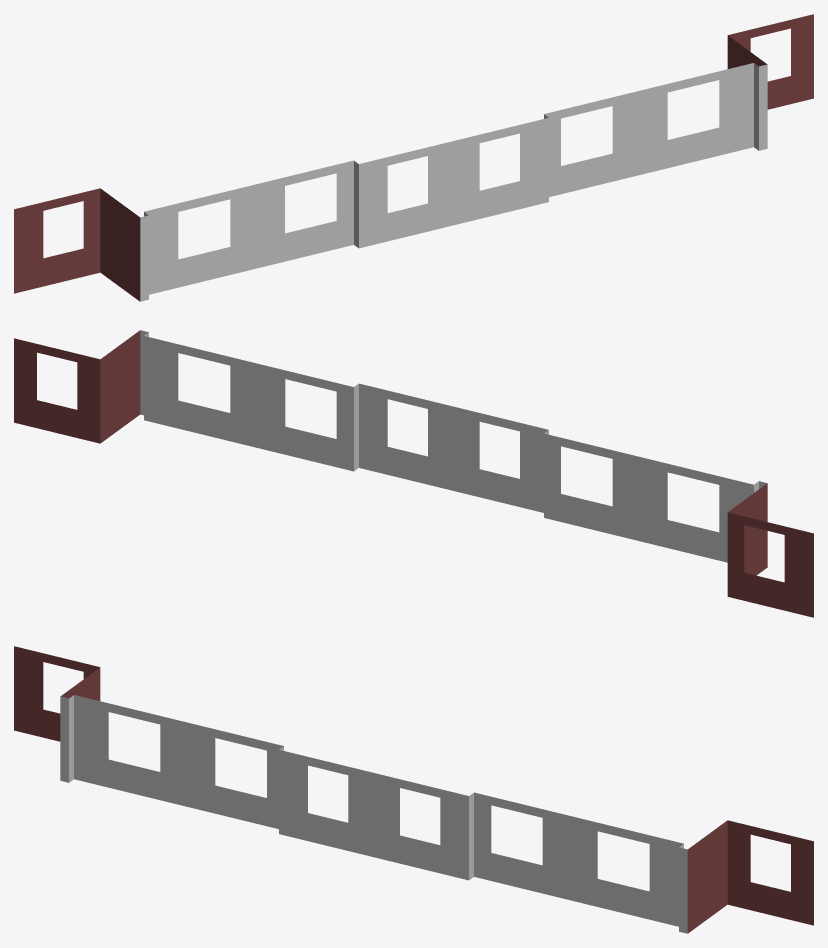
File: p3-floor-first-back.fbx
3 renders of one model, top to bottom at view 1: azimuth 30°, elevation 25°; view 2: azimuth 150°, elevation 25°; view 3: azimuth 330°, elevation 25°, orthographic.
Parts seen in each view (by area): view 1: floor-first-back.001; view 2: floor-first-back.001; view 3: floor-first-back.001.
Boxes of the visible parts, x1,y1,x2,y2 form: floor-first-back.001: [14, 14, 813, 301]; floor-first-back.001: [14, 330, 813, 617]; floor-first-back.001: [14, 646, 813, 933].
Size of the model in its own units: 2779 by 280 by 240.
